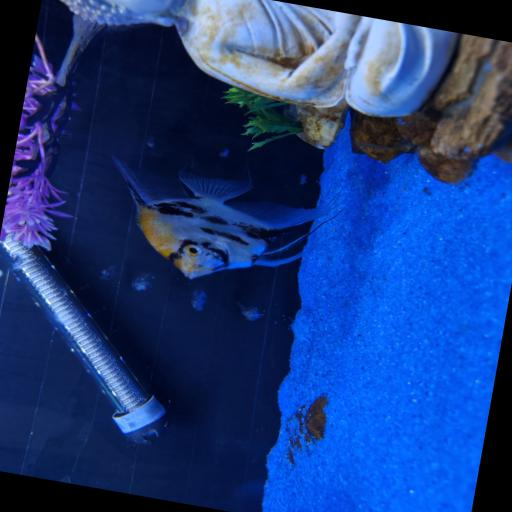Fish: (113, 156, 335, 277), (237, 302, 263, 320), (132, 273, 153, 290), (192, 289, 207, 310)
